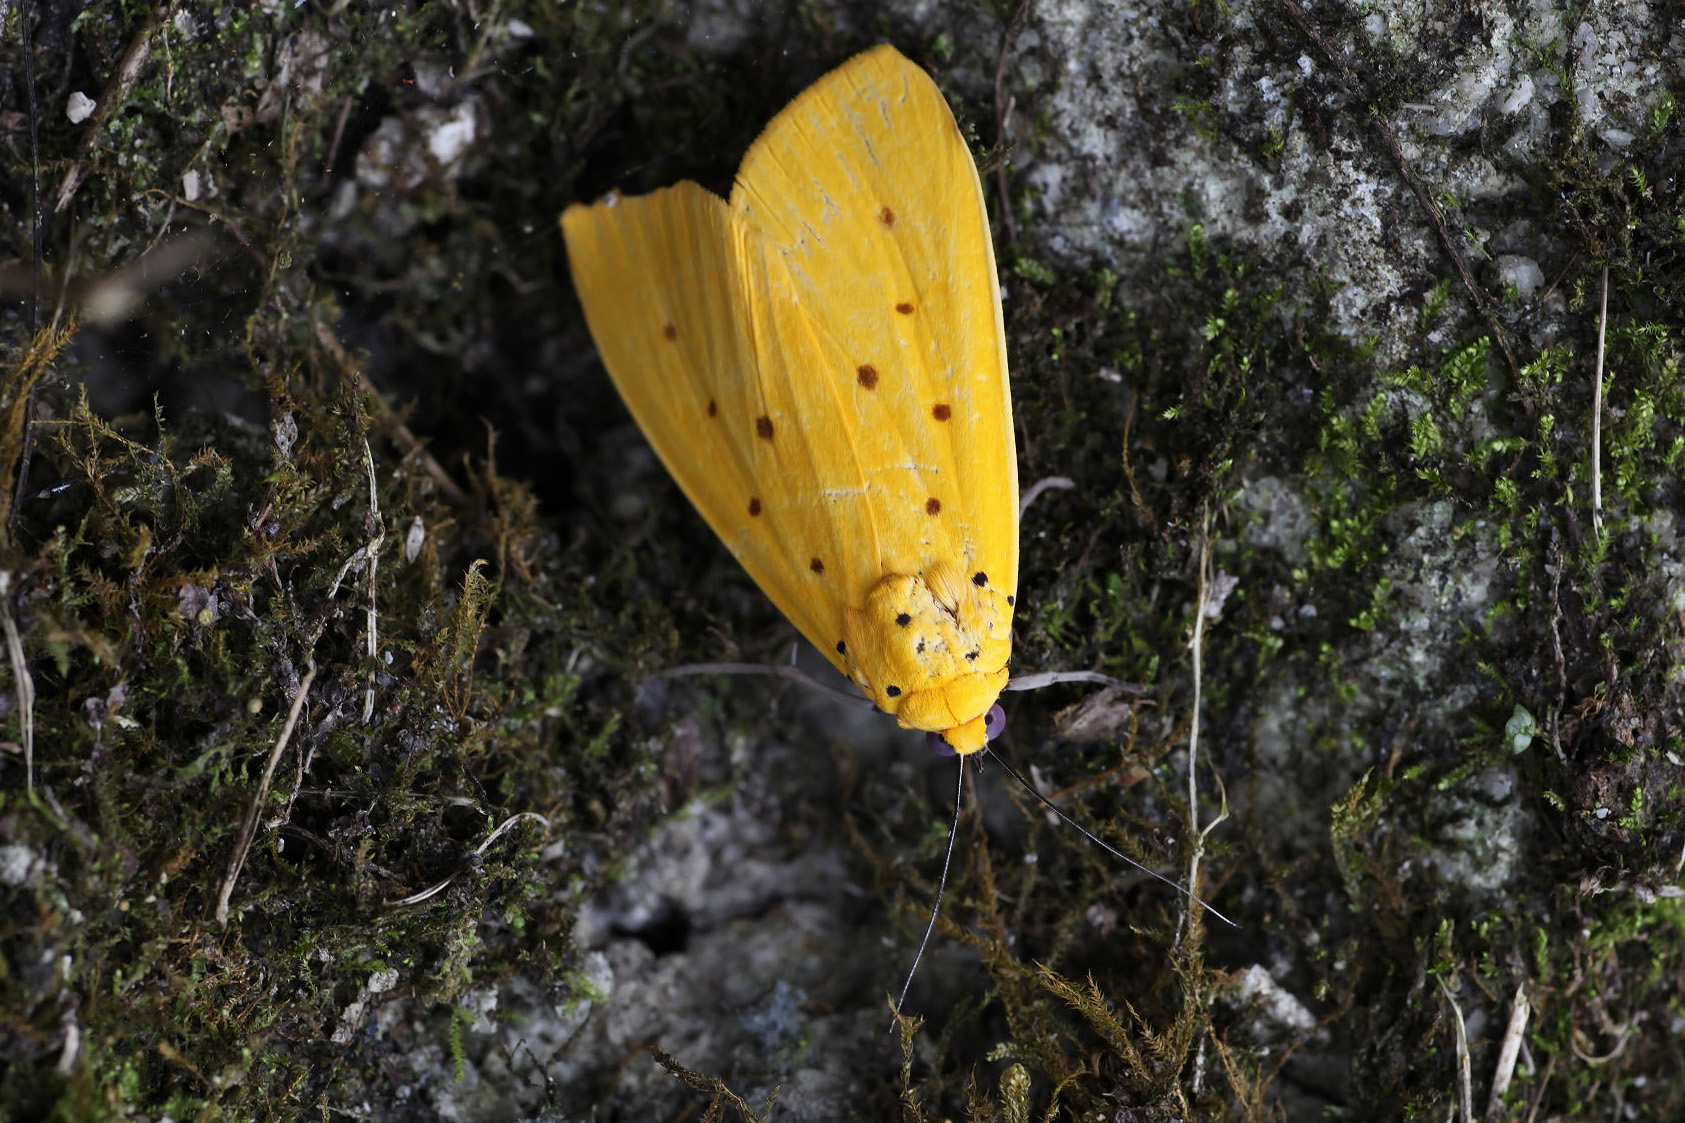Agape chloropyga: (541, 31, 1239, 1032)
moth: (542, 33, 1242, 1033)
